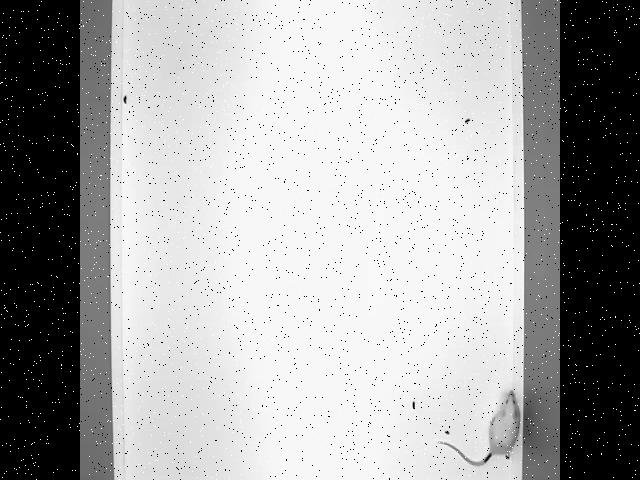Tikus: (435, 388, 519, 466)
